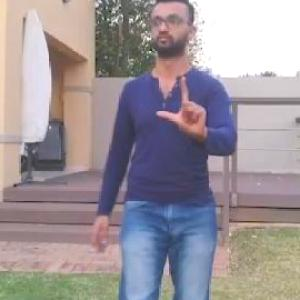land_hand: (150, 70, 212, 143)
